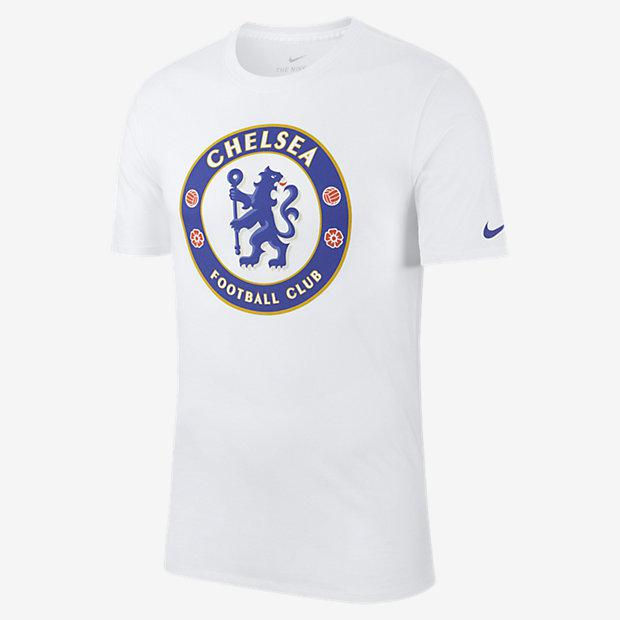teeshirt: (90, 11, 537, 609)
